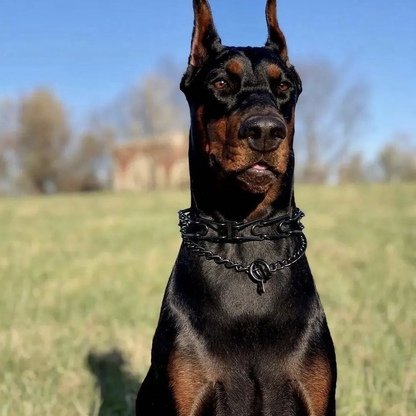doberman: (145, 6, 349, 416)
